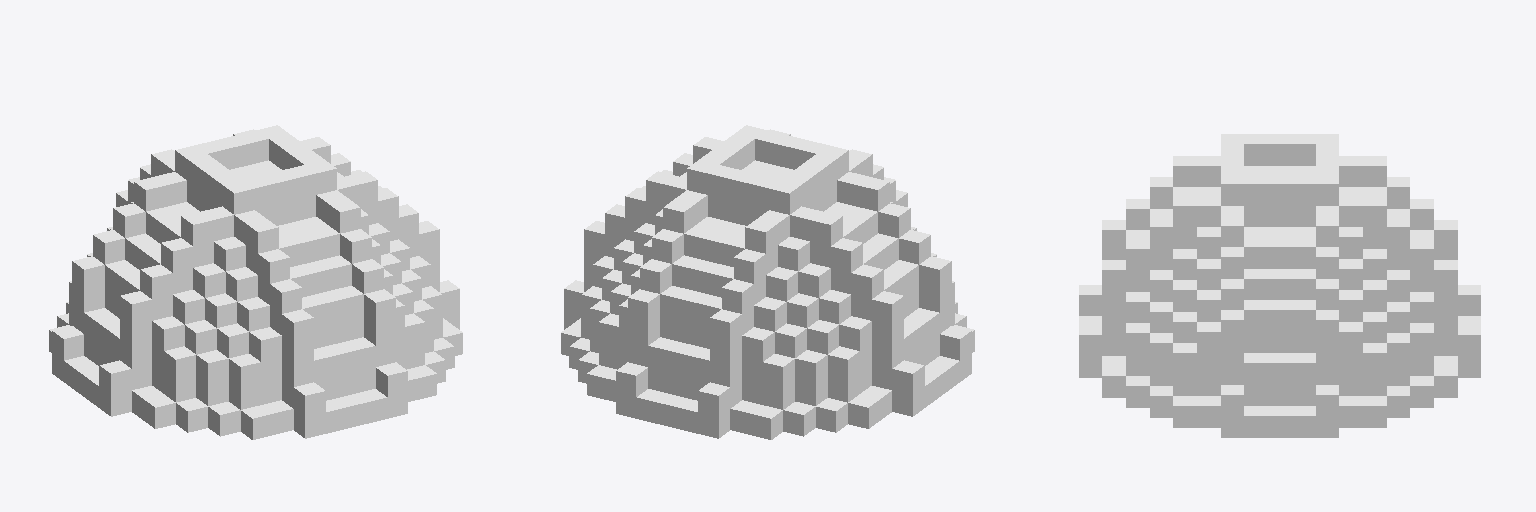
File: circle_wire.obj
3 renders of one model, left to right at view 1: azimuth 30°, elevation 25°; view 2: azimuth 150°, elevation 25°; view 3: azimuth 270°, elevation 25°, orthographic.
Parts seen in each view (by area): view 1: object 1; view 2: object 1; view 3: object 1.
Part boxes in pixels (x1,y1,x2,y2): object 1: (49,125,462,439); object 1: (561,125,974,439); object 1: (1079,134,1480,437).
Bounding box in the file's own units: 1.7 × 0.9 × 1.7.